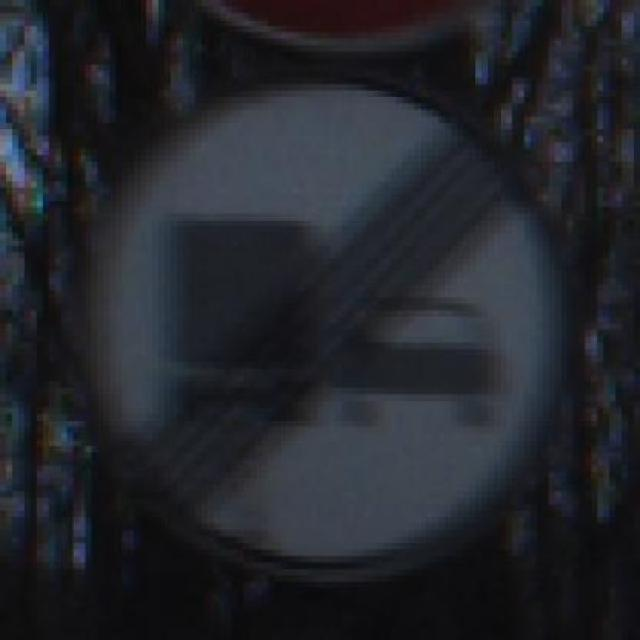Overtaking by trucks is prohibited: (36, 64, 604, 582)
